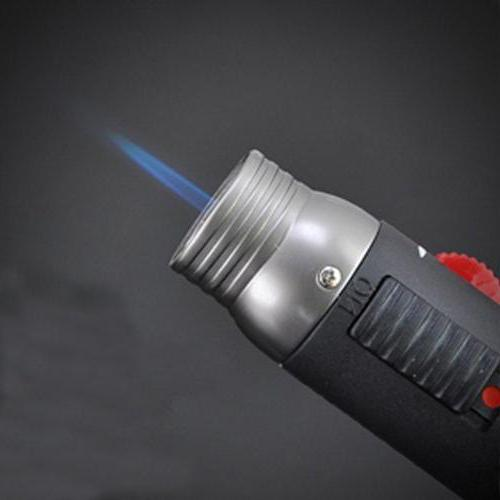fire: (98, 125, 235, 233)
